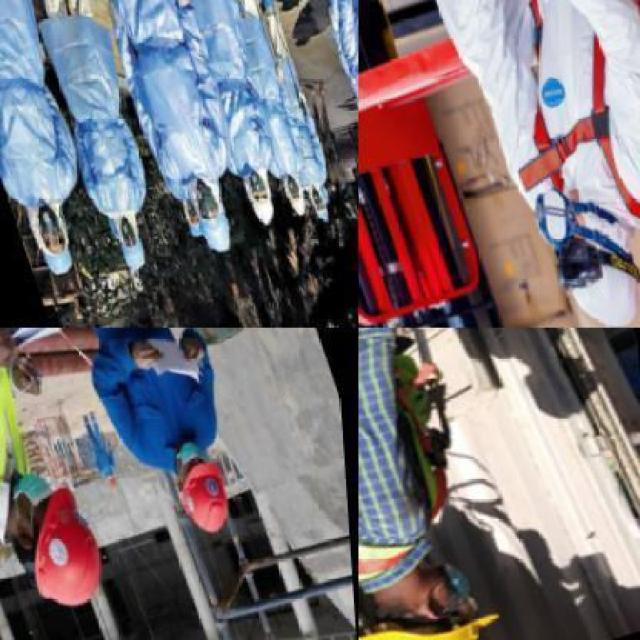helmet: (30, 486, 119, 612), (169, 456, 237, 540)
